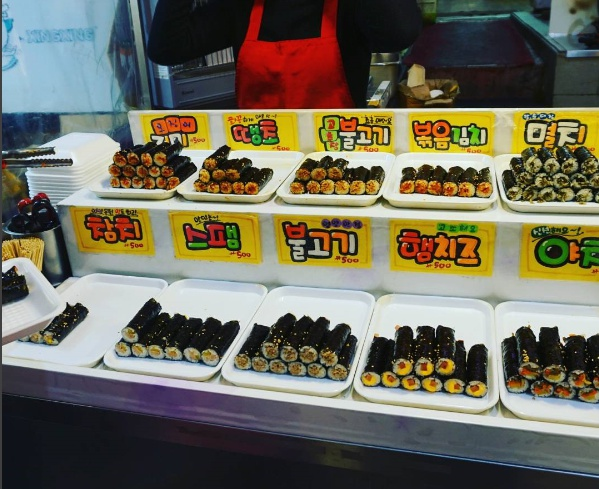gimbab: (357, 321, 491, 401), (233, 311, 358, 383), (114, 298, 238, 369), (499, 322, 599, 406), (502, 143, 599, 205), (191, 141, 278, 198), (103, 138, 195, 190), (287, 153, 385, 200), (400, 158, 494, 202)
